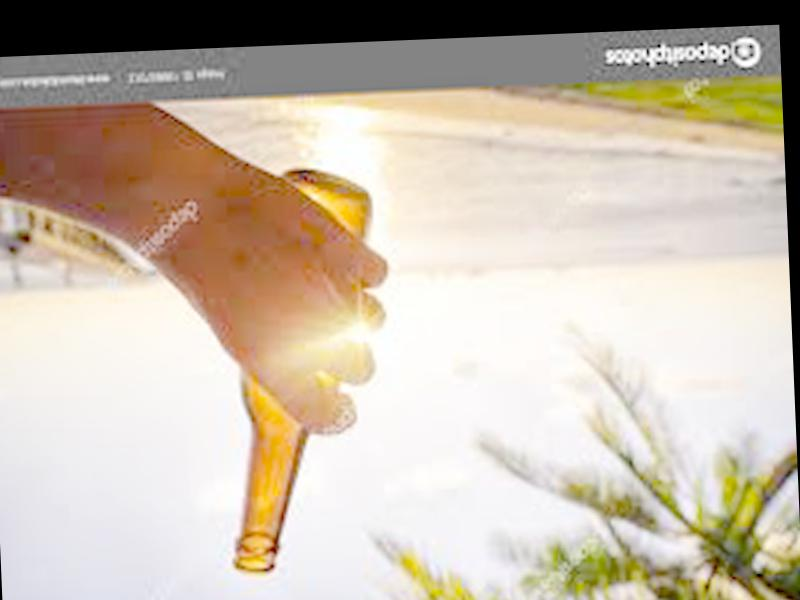Beer: (212, 163, 384, 575)
